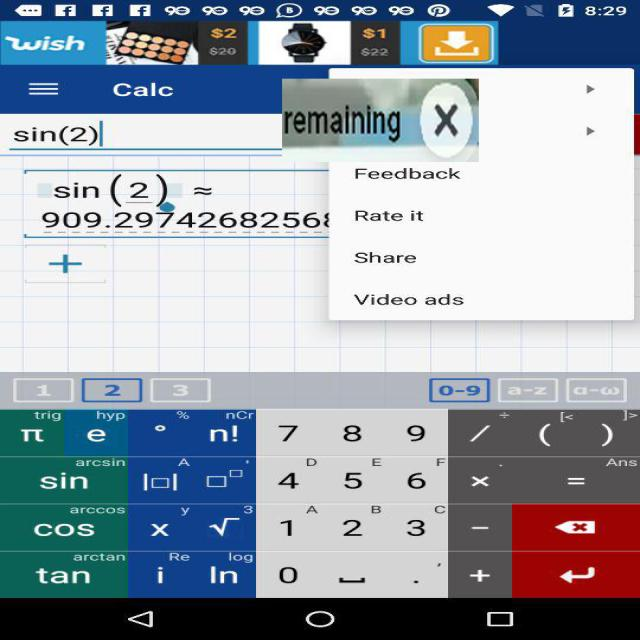misdirection: (282, 79, 479, 162)
